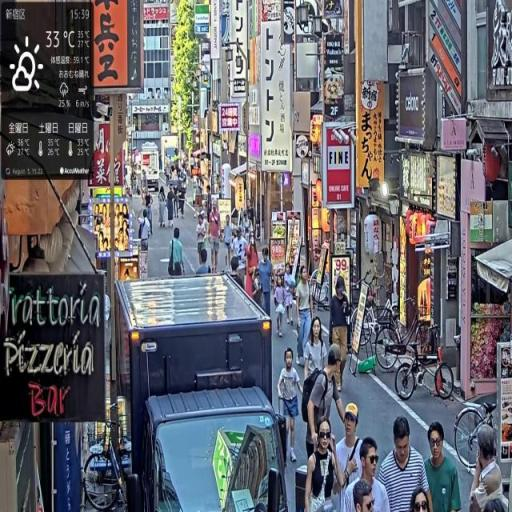person: (379, 418, 433, 512), (307, 346, 346, 459), (340, 438, 392, 512), (306, 419, 346, 512), (426, 423, 462, 512), (279, 349, 304, 463), (471, 426, 504, 512), (337, 403, 363, 512), (331, 277, 351, 391), (297, 267, 315, 365), (254, 235, 274, 317), (305, 318, 328, 380), (209, 202, 222, 274), (234, 228, 249, 289), (247, 234, 260, 299), (169, 228, 185, 276), (284, 264, 296, 326), (275, 275, 286, 338), (354, 480, 375, 512), (410, 487, 434, 512), (223, 215, 233, 270), (197, 212, 207, 265), (140, 210, 152, 251), (231, 257, 245, 291), (196, 249, 212, 275), (254, 268, 264, 309), (196, 177, 205, 219), (241, 212, 255, 239), (159, 187, 168, 228), (146, 190, 154, 235), (168, 187, 176, 228), (485, 499, 508, 512), (173, 180, 180, 220), (180, 185, 188, 219), (248, 201, 257, 231), (207, 186, 213, 219), (142, 169, 149, 192), (123, 204, 130, 220)
